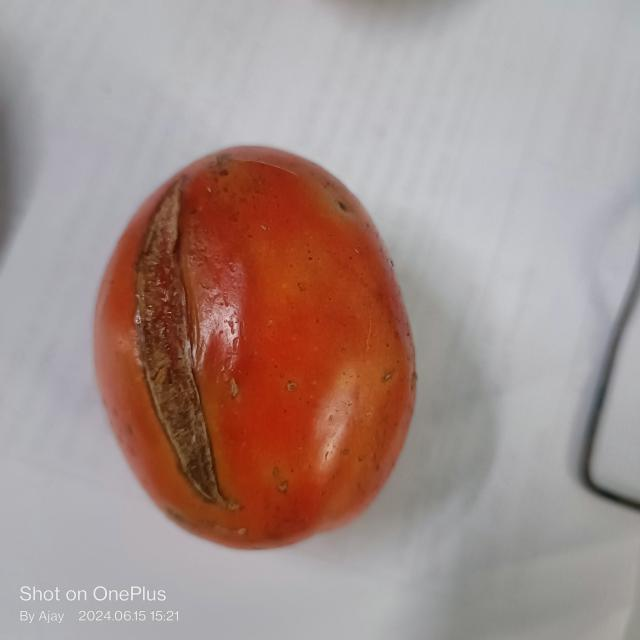tomato_cracking: (128, 174, 234, 510)
